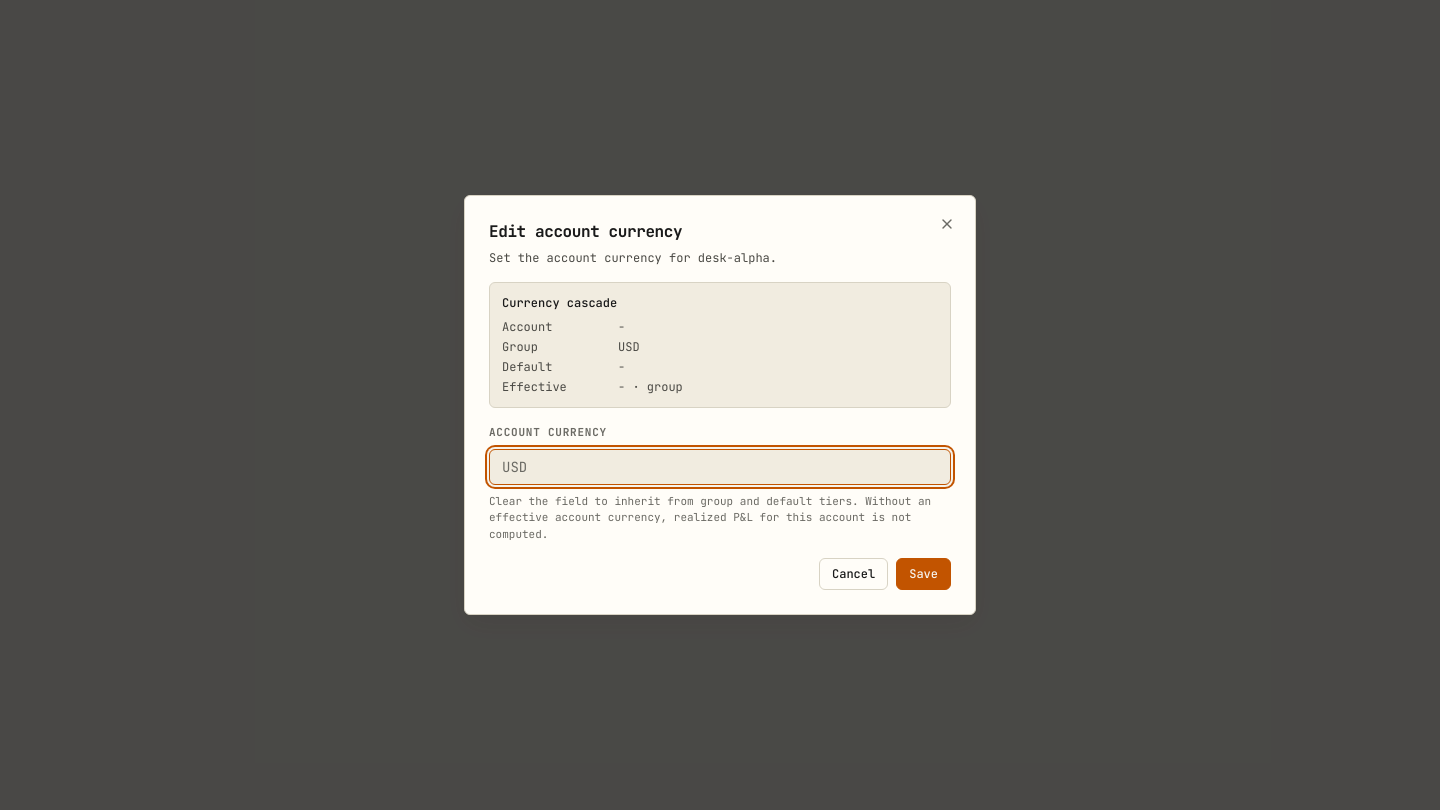
Test: AccountCurrencyDialog › shows every server blocker from the API client and keeps the dialog open
Type "EUR" into the dropdown labelled "Account currency" at [720, 466], box left=489, top=448, right=951, bottom=484
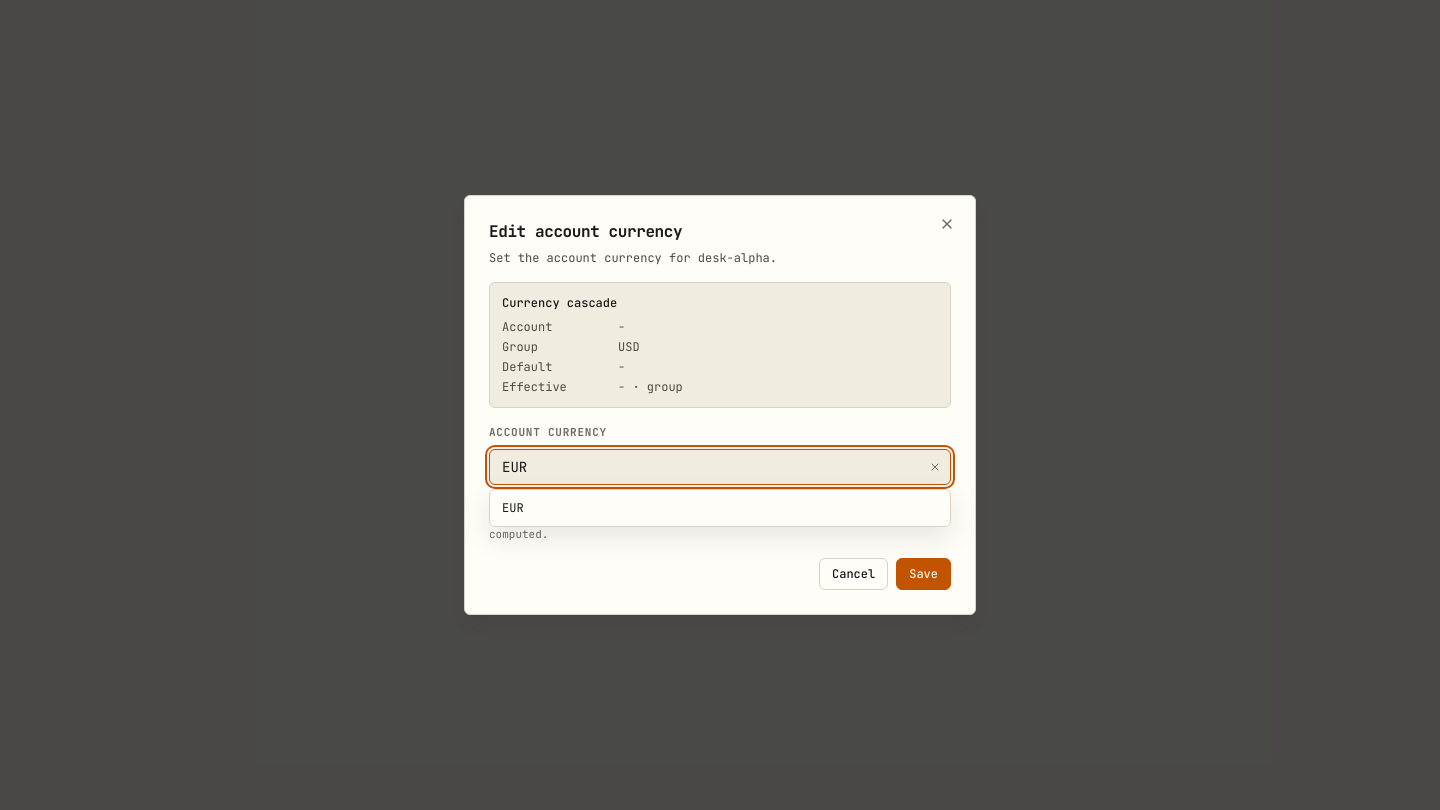
Check: the list is shown, box left=489, top=488, right=951, bottom=526
Click the button "Save" at [924, 574], box left=896, top=558, right=951, bottom=590
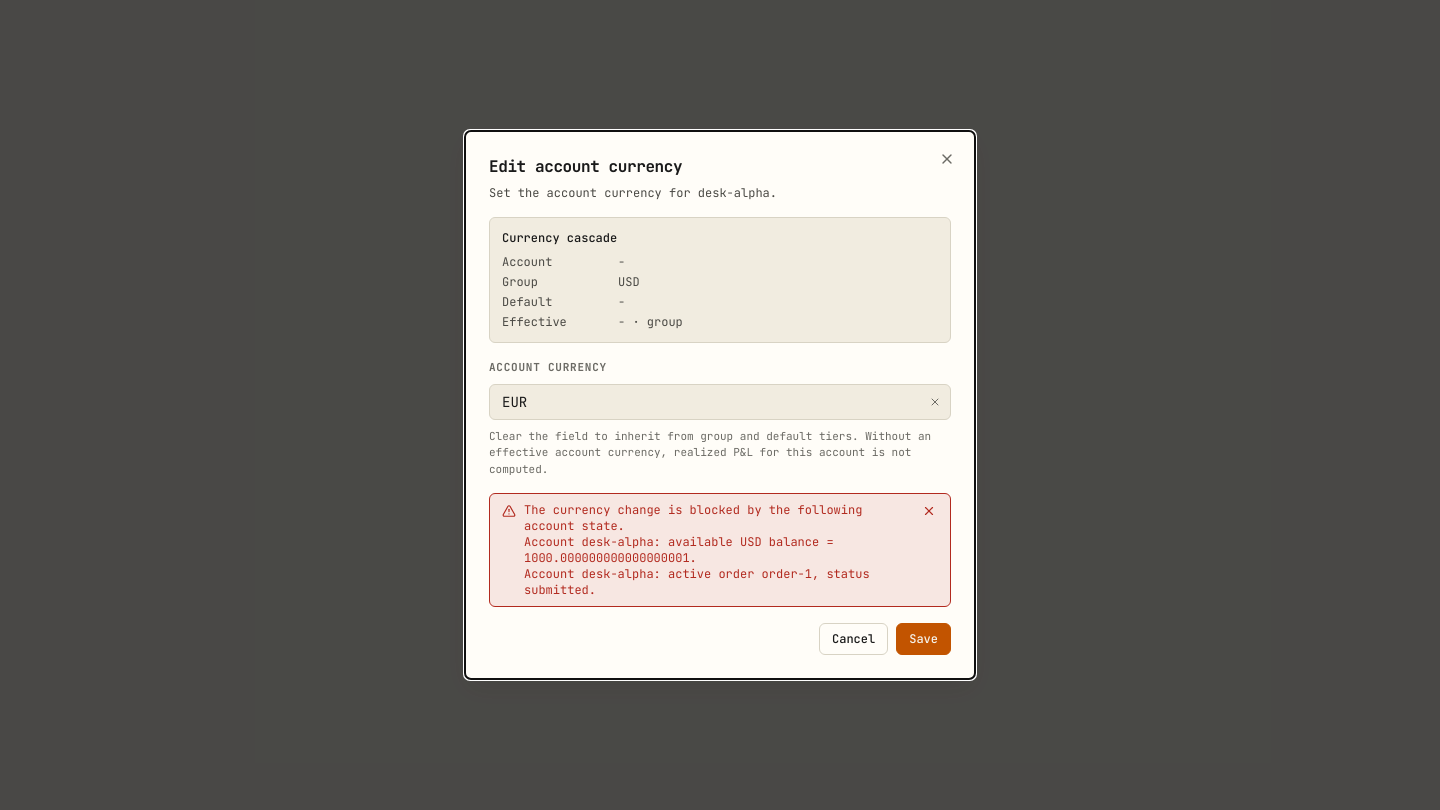
Check: the list is gone
Check: the message shows "available USD balance = 1000.000000000000000001", box left=524, top=502, right=870, bottom=598
Check: the message shows "active order order-1, status submitted", box left=524, top=502, right=870, bottom=598
